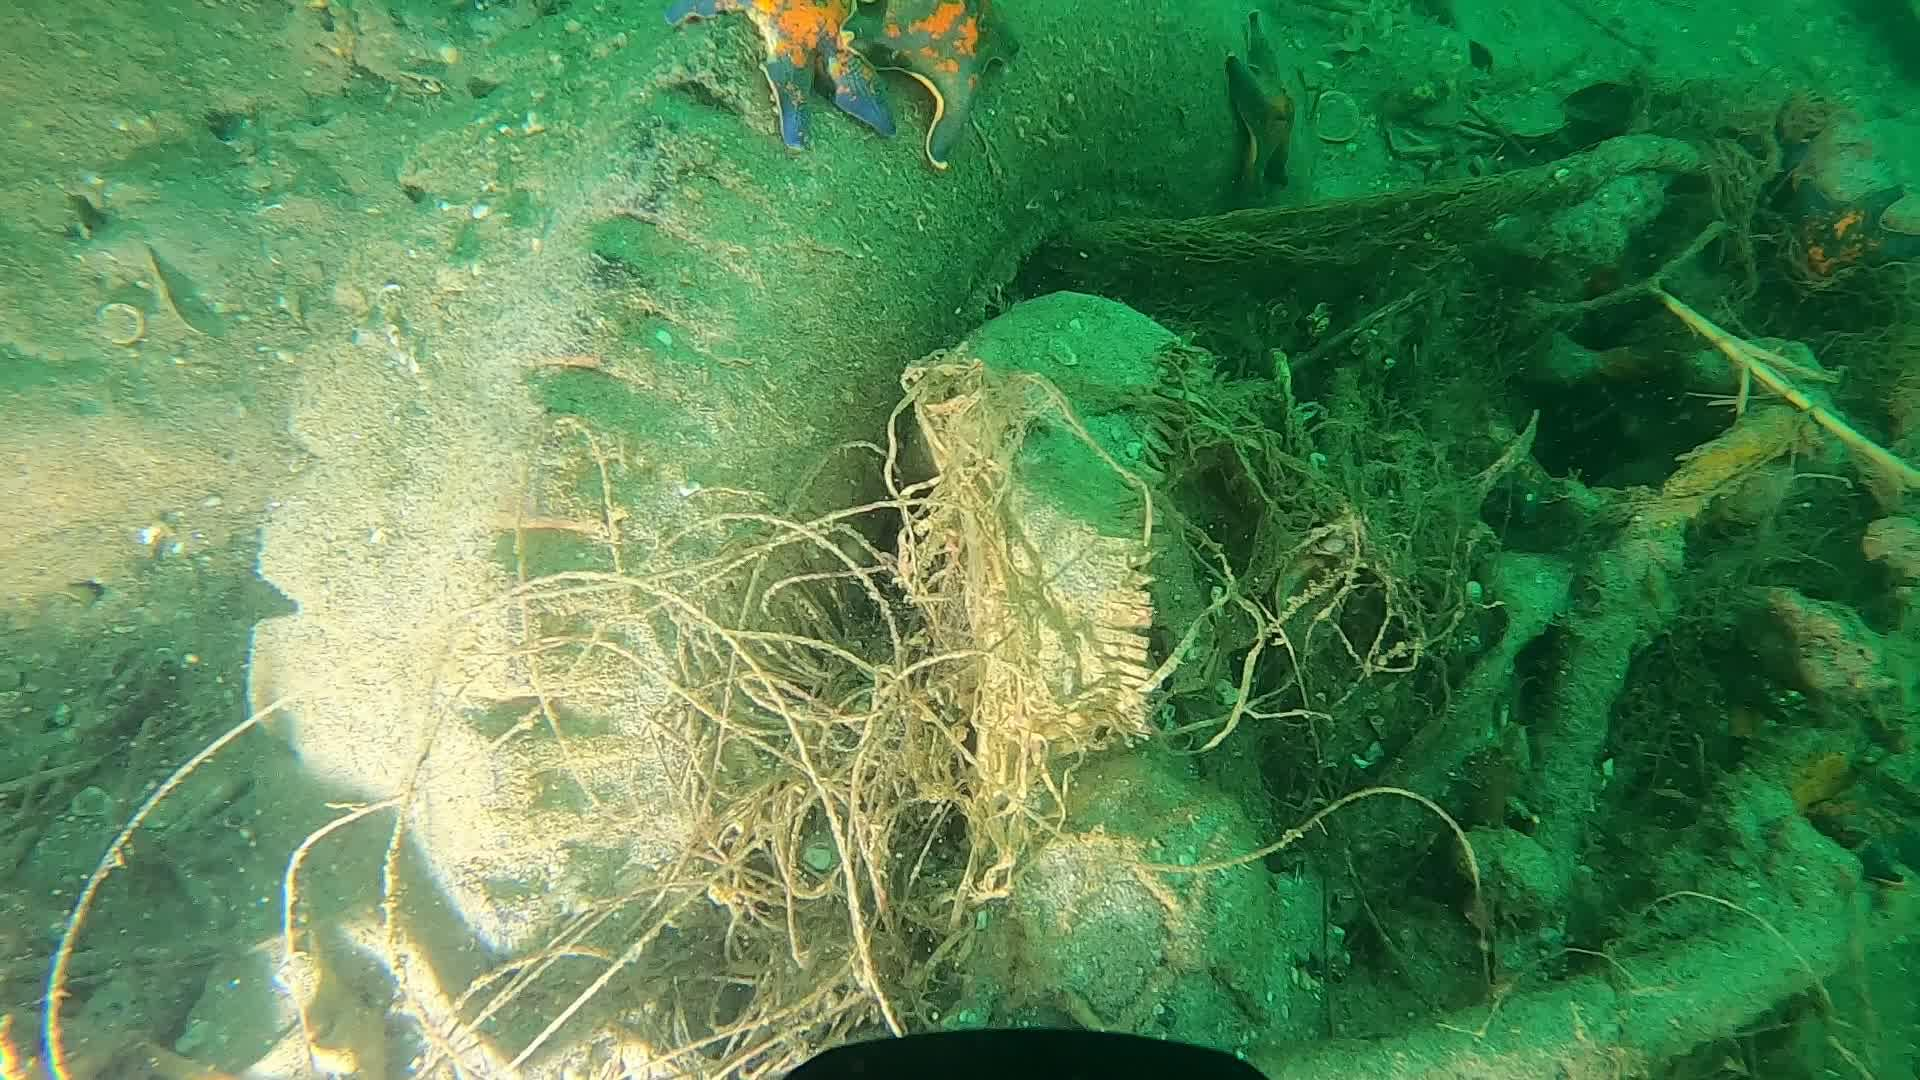fish net: (1100, 199, 1327, 268)
tire: (244, 0, 1325, 949)
